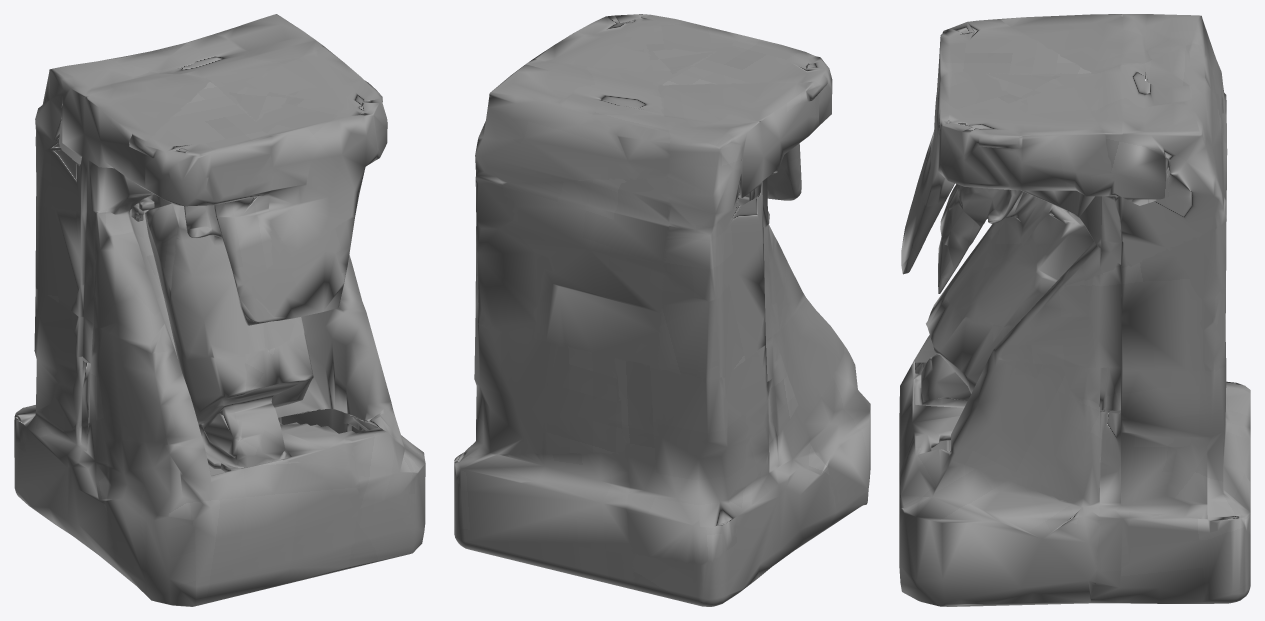
Rendered from s_sharpener.glb.
3 renders of one model, left to right at view 1: azimuth 30°, elevation 25°; view 2: azimuth 150°, elevation 25°; view 3: azimuth 270°, elevation 25°, orthographic. The views are drawn at different scales.
Visible parts, largest first — view 1: tripo_node_2a7c0fea-dfa6-44f6-9a49-aaa949f5c063; view 2: tripo_node_2a7c0fea-dfa6-44f6-9a49-aaa949f5c063; view 3: tripo_node_2a7c0fea-dfa6-44f6-9a49-aaa949f5c063.
Boxes of the visible parts, <box> form: tripo_node_2a7c0fea-dfa6-44f6-9a49-aaa949f5c063: <box>14,14,425,606</box>; tripo_node_2a7c0fea-dfa6-44f6-9a49-aaa949f5c063: <box>454,14,870,606</box>; tripo_node_2a7c0fea-dfa6-44f6-9a49-aaa949f5c063: <box>899,14,1250,606</box>.
Size of the model in its own units: 0.6609 by 1 by 0.6829.
Materials: 1 (1 with a texture image).
